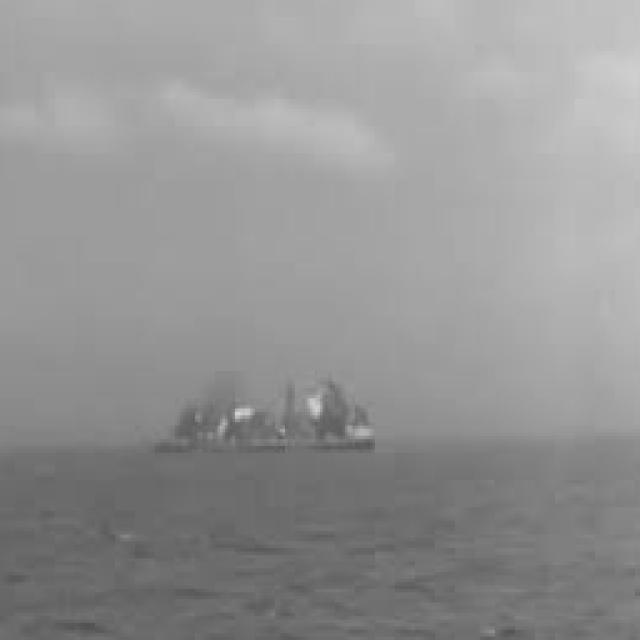fishing boat: (147, 362, 388, 462)
